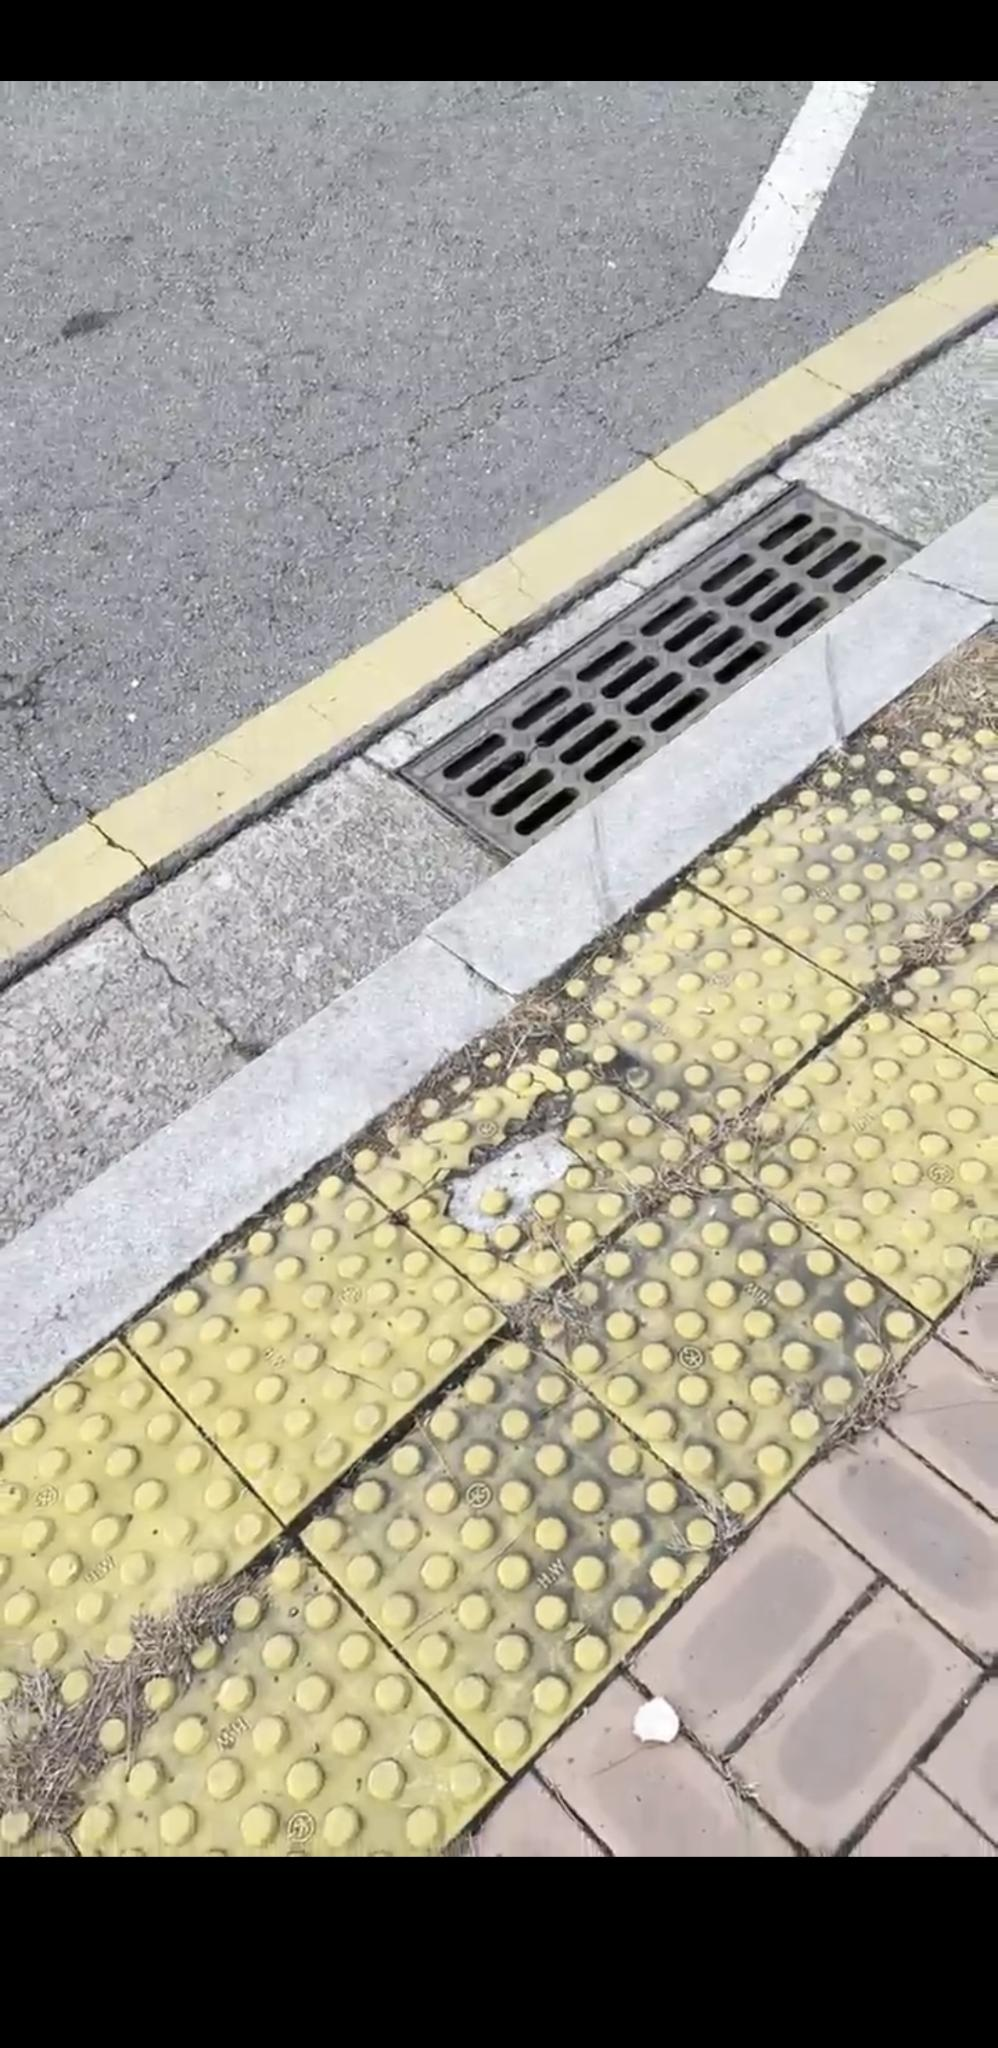Stop block broken: (345, 1024, 700, 1313)
Stop block normal: (298, 1336, 737, 1770), (523, 1157, 933, 1527), (123, 1165, 506, 1523)
